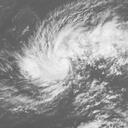cyclone: (16, 17, 119, 99)
